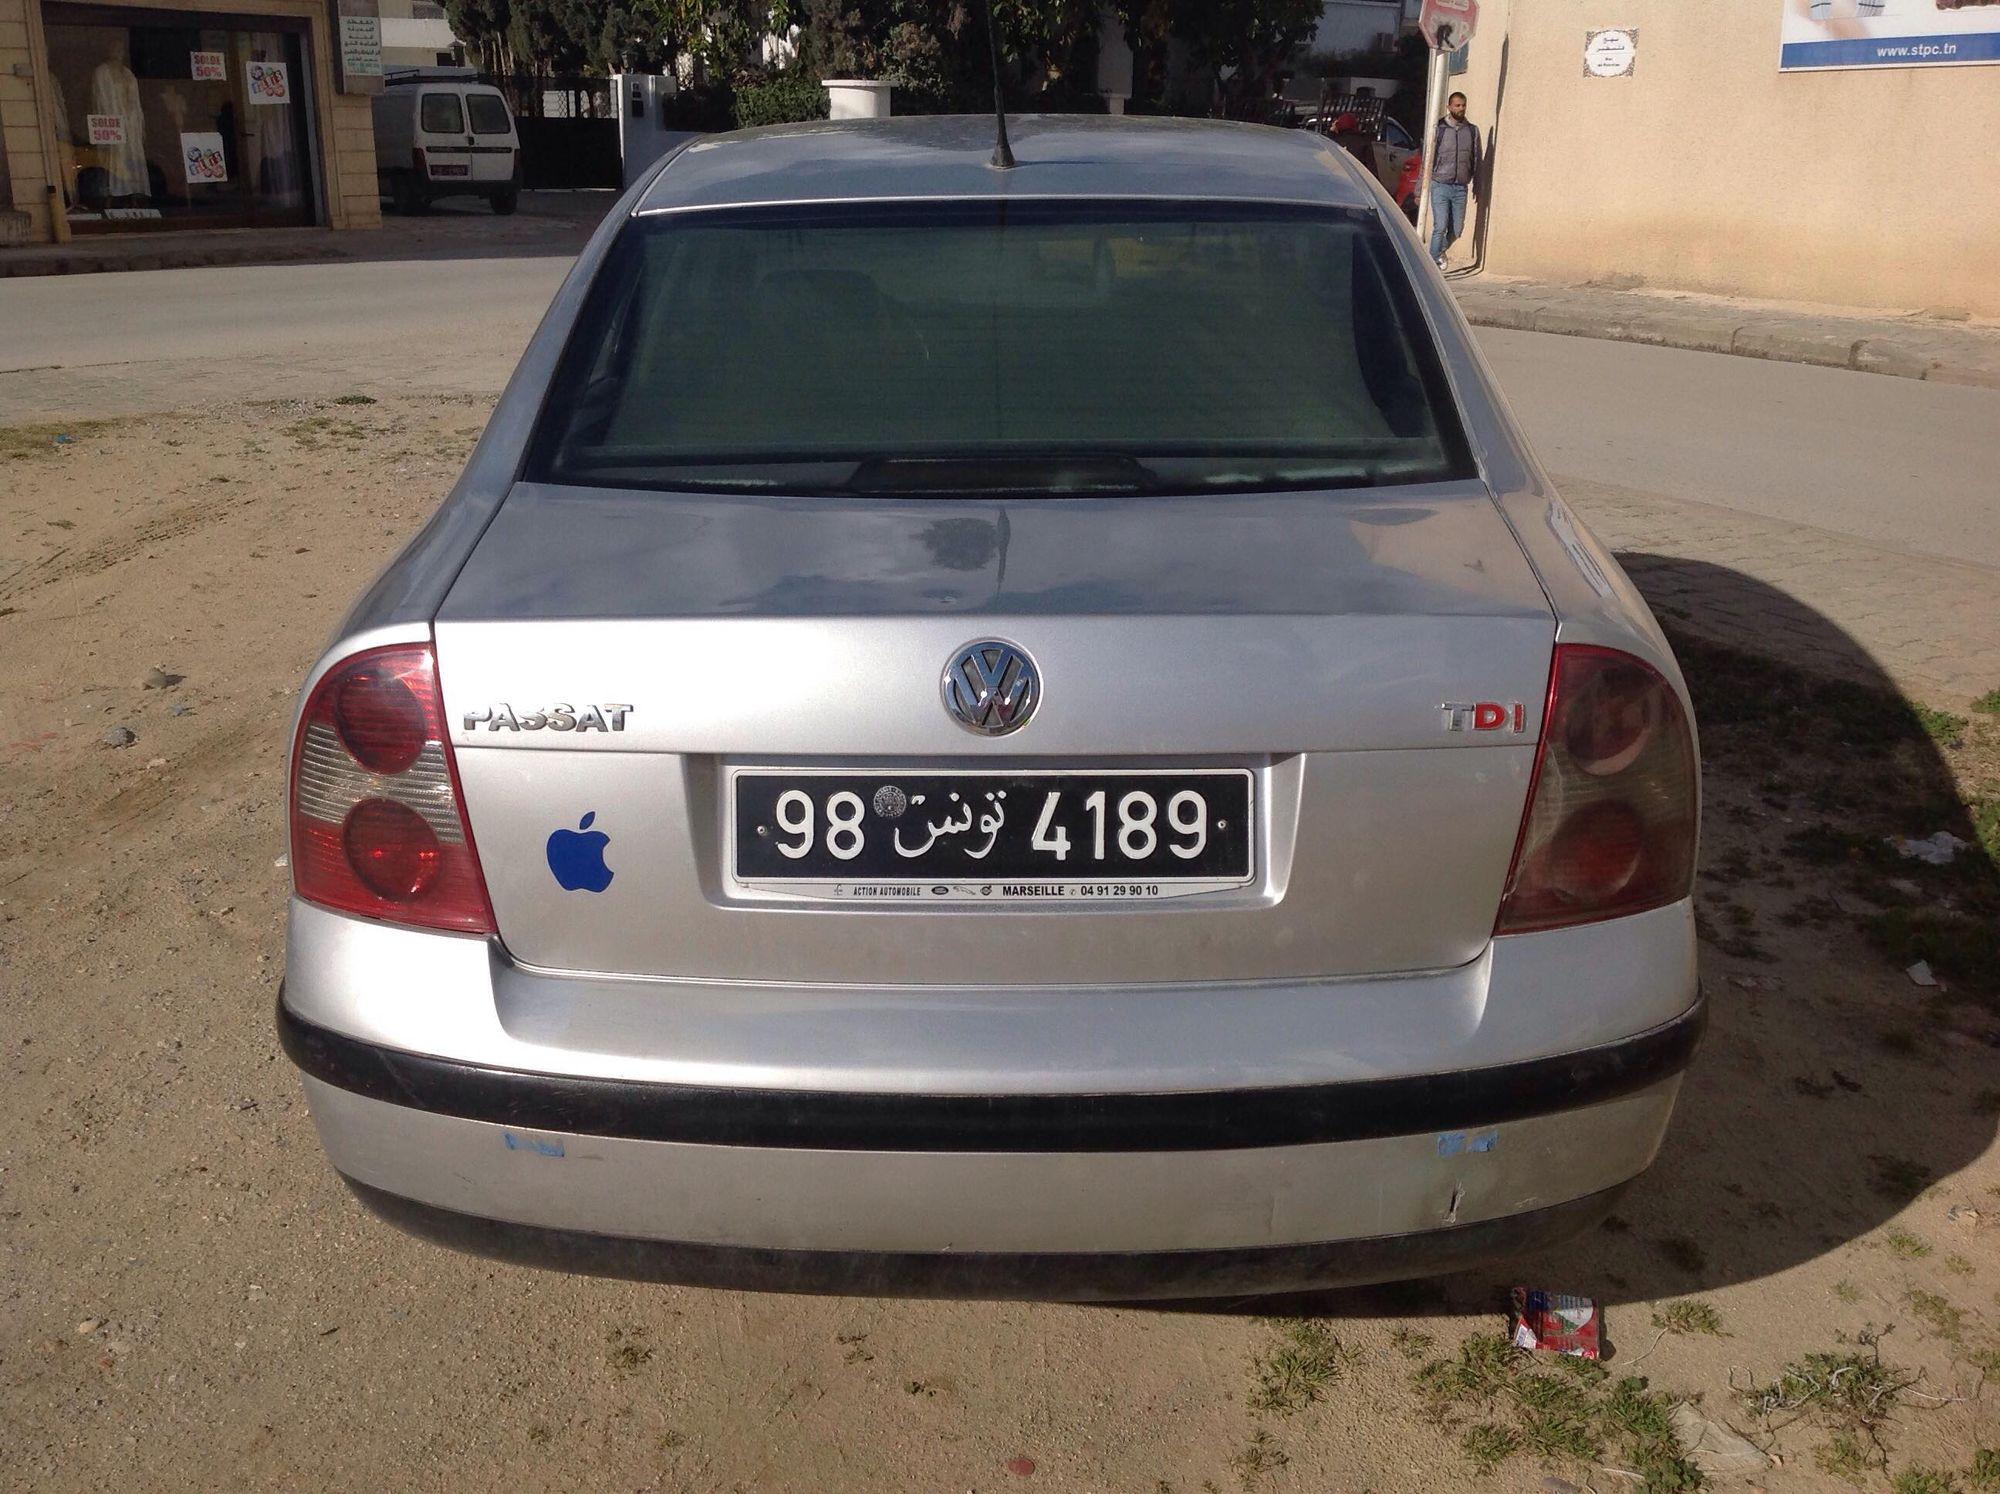LP: (726, 765, 1268, 888)
